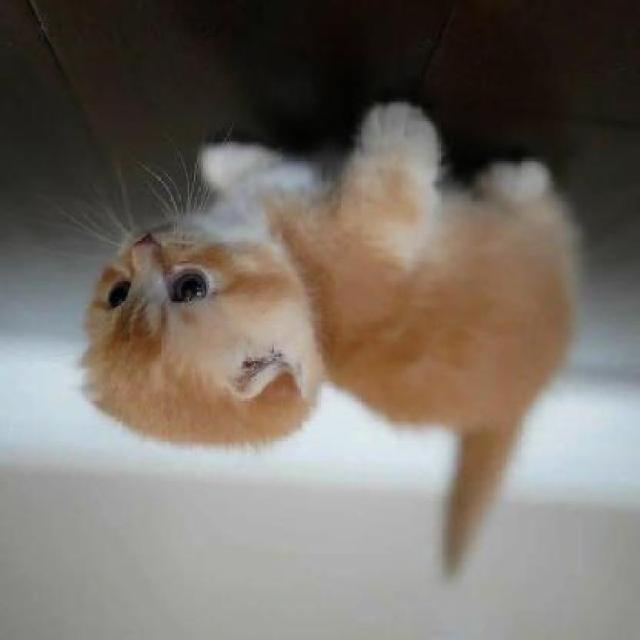cat: (77, 104, 592, 479)
